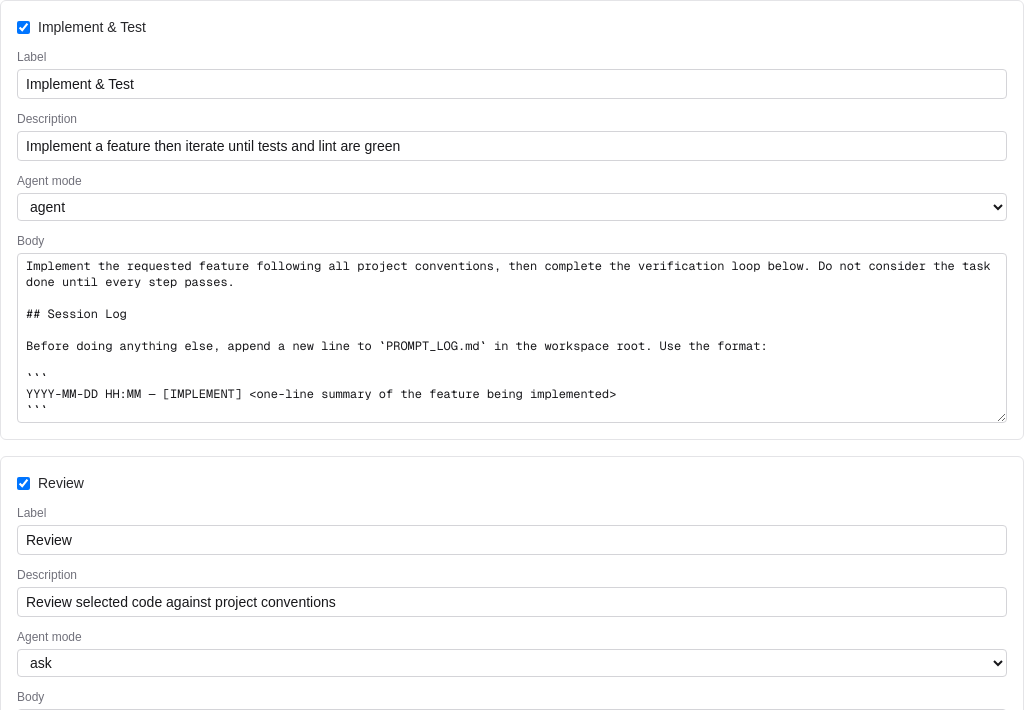
Test: PromptFilesForm › updates the label atom when the label input changes
Replace the text in the field labelled "Label" below "Implement & Test" with "New Label" at x=512, y=84, box [17,69,1007,99]
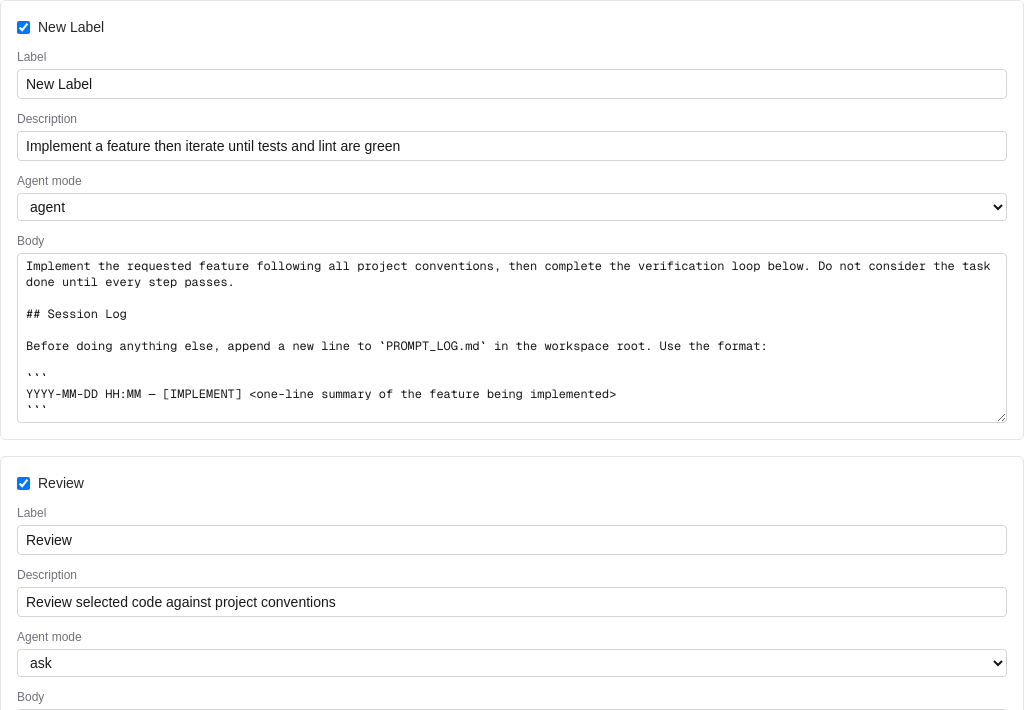
Expected: the label "New Label" is shown, [17,19,104,35]
